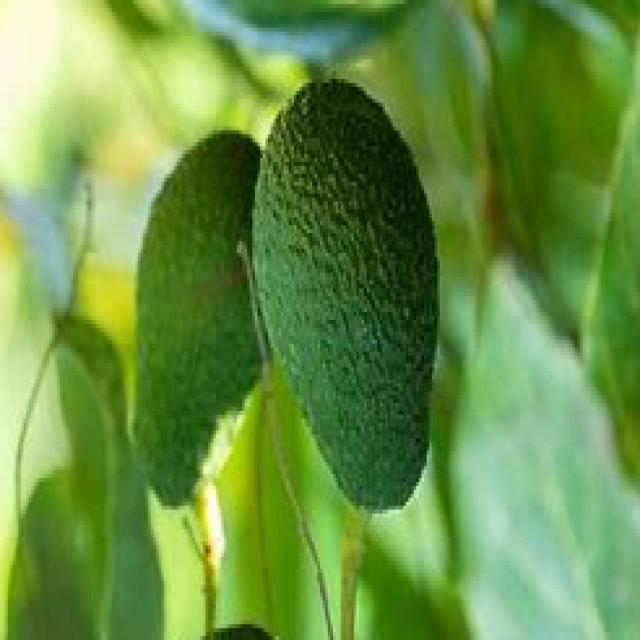avocado: (258, 83, 450, 513), (127, 135, 276, 514)
